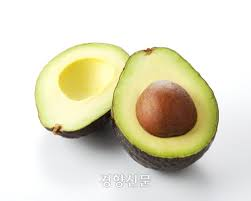avocado: (112, 47, 219, 173), (34, 40, 131, 139)
